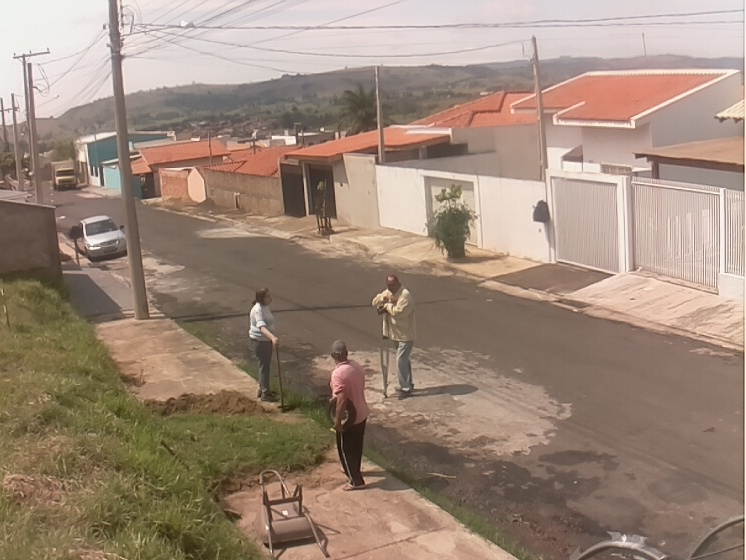person: (329, 340, 368, 490), (372, 274, 417, 399), (248, 286, 279, 403)
